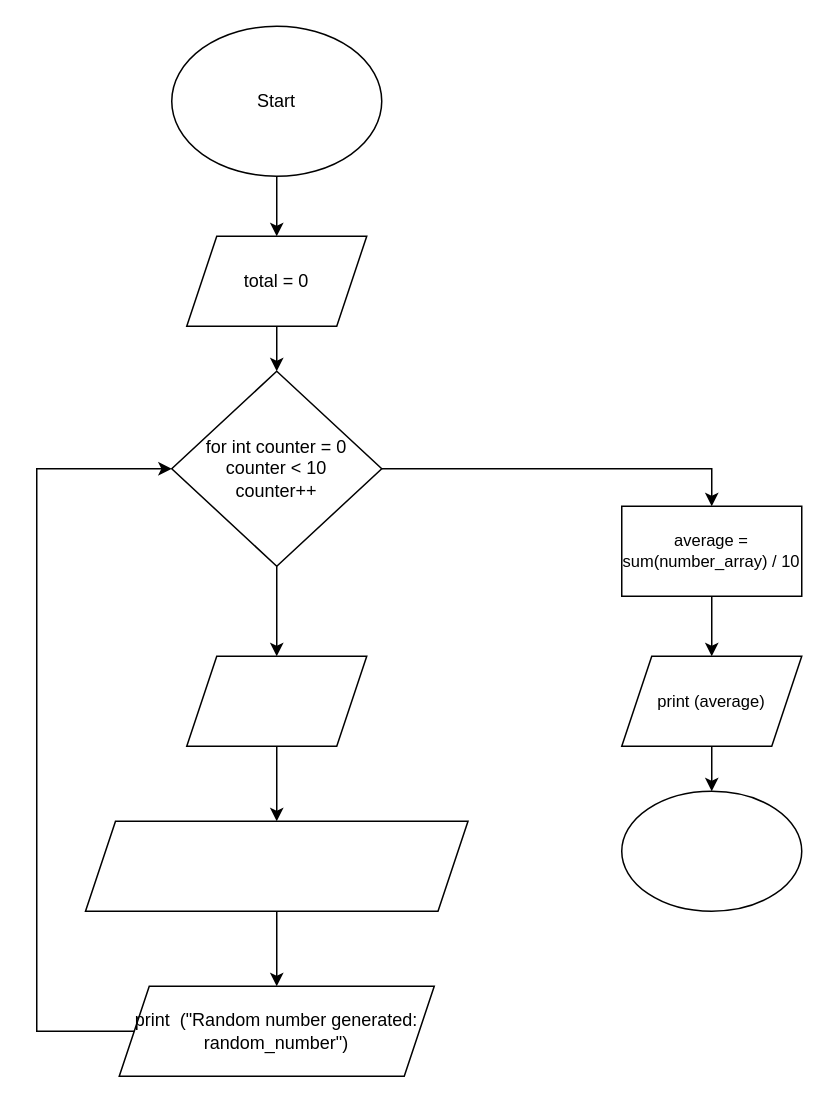
Some shapes in this 828 by 1103 pixel diagram are drawn without their labels. Here are the shapes that lost their labels. From the top down, the box of each, then its label:
(185, 655, 367, 746): generate random number
(84, 820, 468, 911): number_array.append(random_number)
(620, 790, 802, 911): Stop
